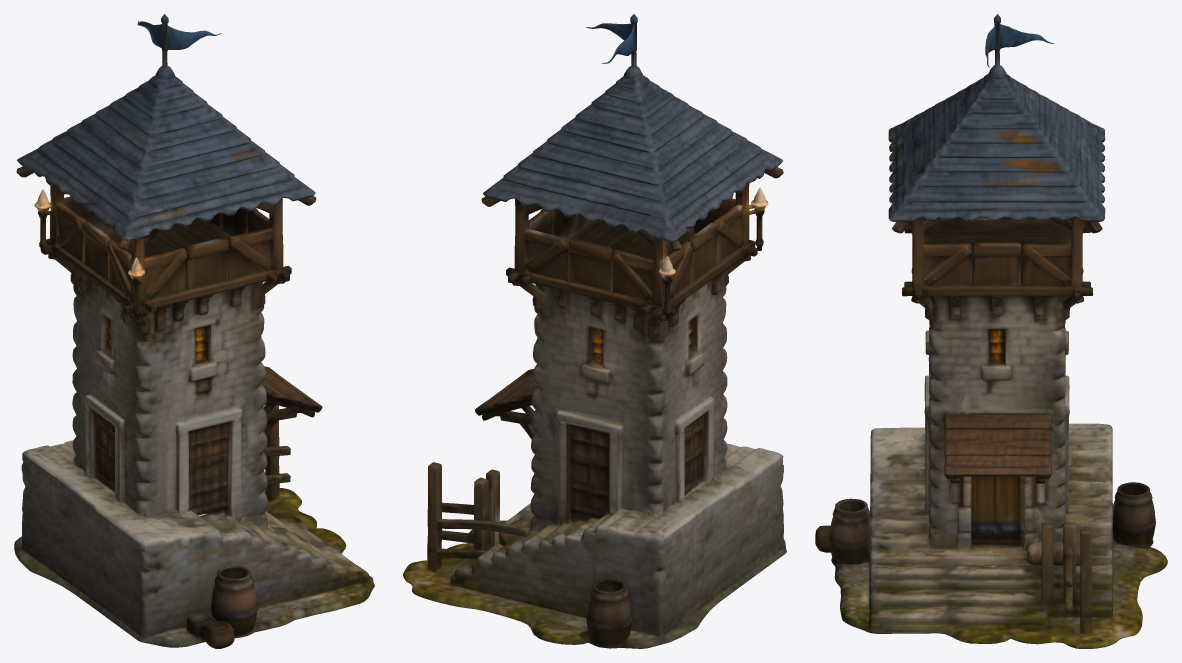
File: watchtower.glb
3 views of the same model, side by side, from view 1: azimuth 30°, elevation 25°; view 2: azimuth 150°, elevation 25°; view 3: azimuth 270°, elevation 25° (orthographic). The views are drawn at different scales.
Parts seen in each view (by area): view 1: material; view 2: material; view 3: material.
Boxes of the visible parts, left/top/right/bottom form: material: left=14, top=14, right=374, bottom=648; material: left=403, top=14, right=786, bottom=648; material: left=815, top=14, right=1167, bottom=648.
Size of the model in its own units: 0.5212 by 1.01 by 0.585.
1 material, 1 textured.
